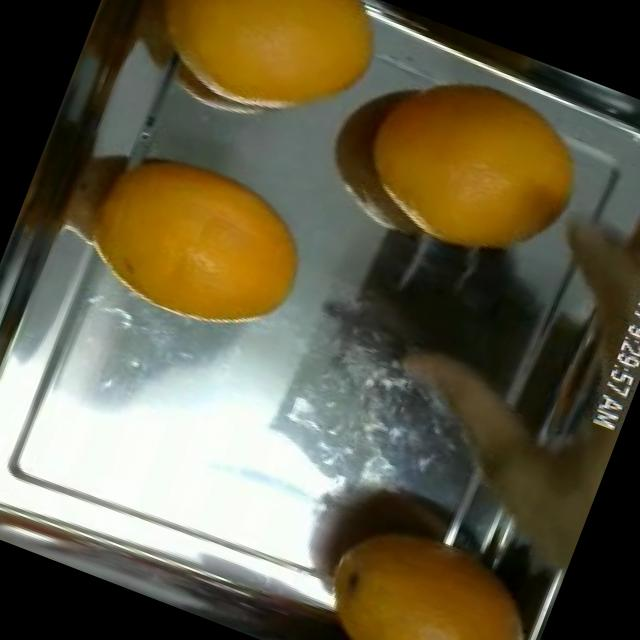Fruit: (96, 134, 339, 364), (313, 502, 564, 640)
